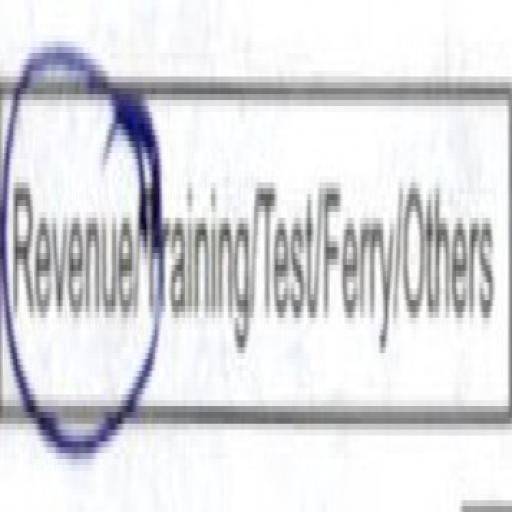check: (0, 0, 146, 482)
